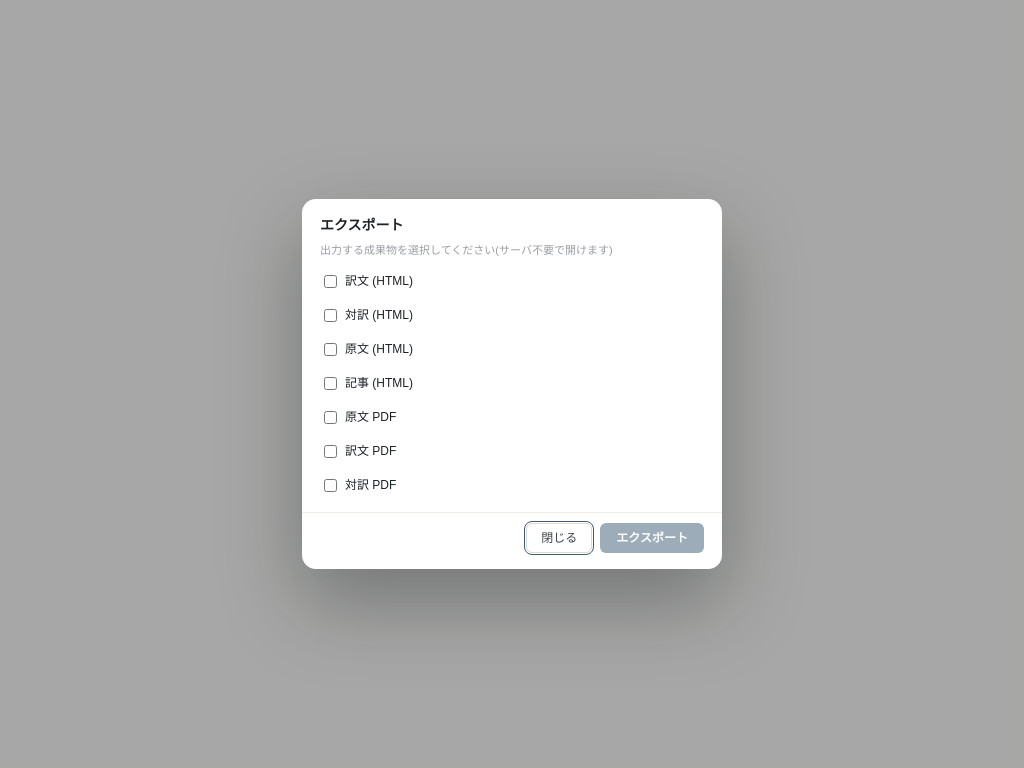
Test: PaperExportModal (Task 12: 論文単位エクスポート選択モーダル) › ジョブ失敗時は job.error を表示する
Click the checkbox labelled "原文 (HTML)".
click(330, 349)  # box [324,343,337,356]
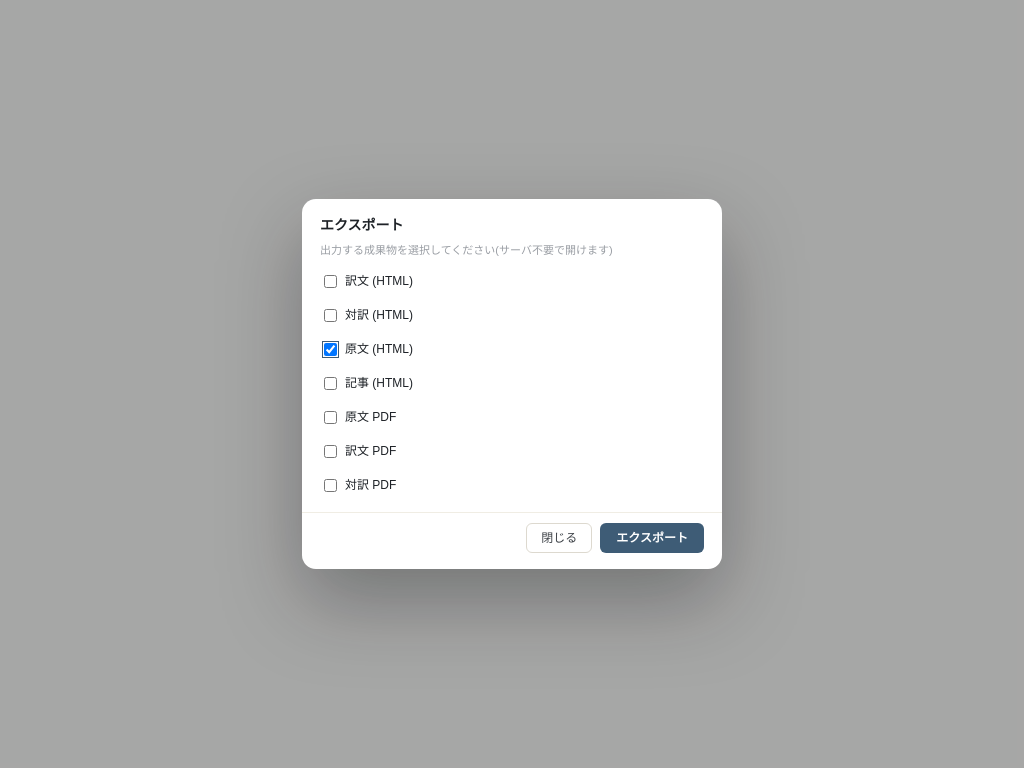
Click the checkbox labelled "訳文 PDF".
click(330, 451)  # box [324,445,337,458]
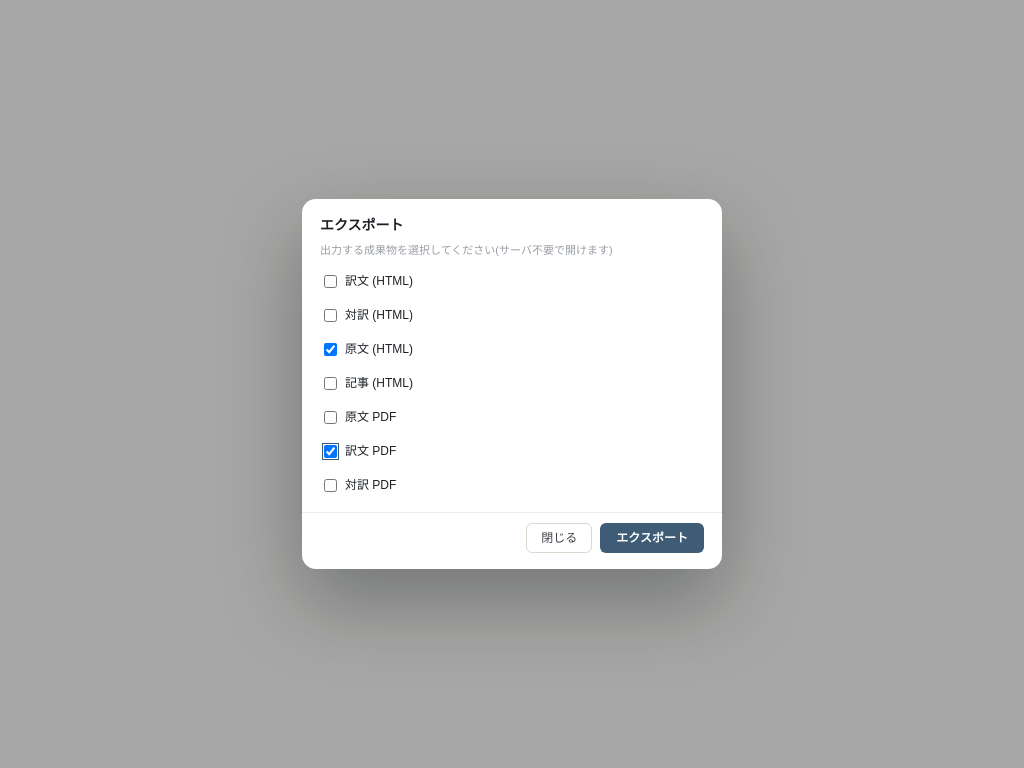
Click the button "エクスポート".
click(652, 538)  # box [600,523,704,553]
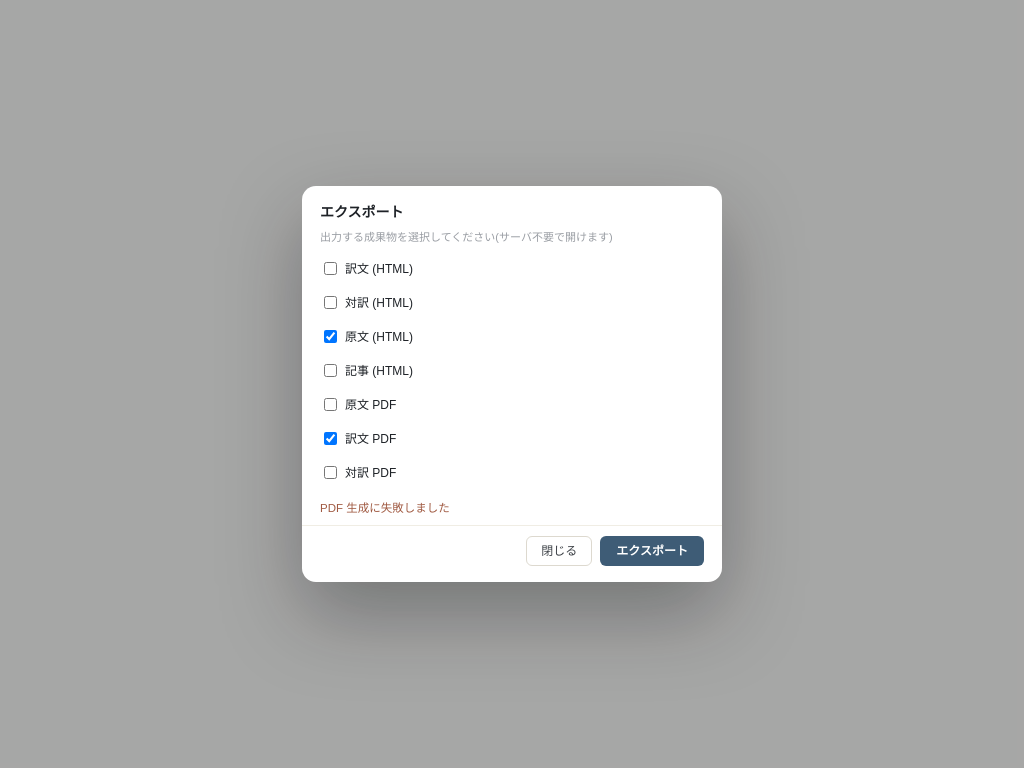
Expected: the text "PDF 生成に失敗しました" is shown, [320,502,450,514]
